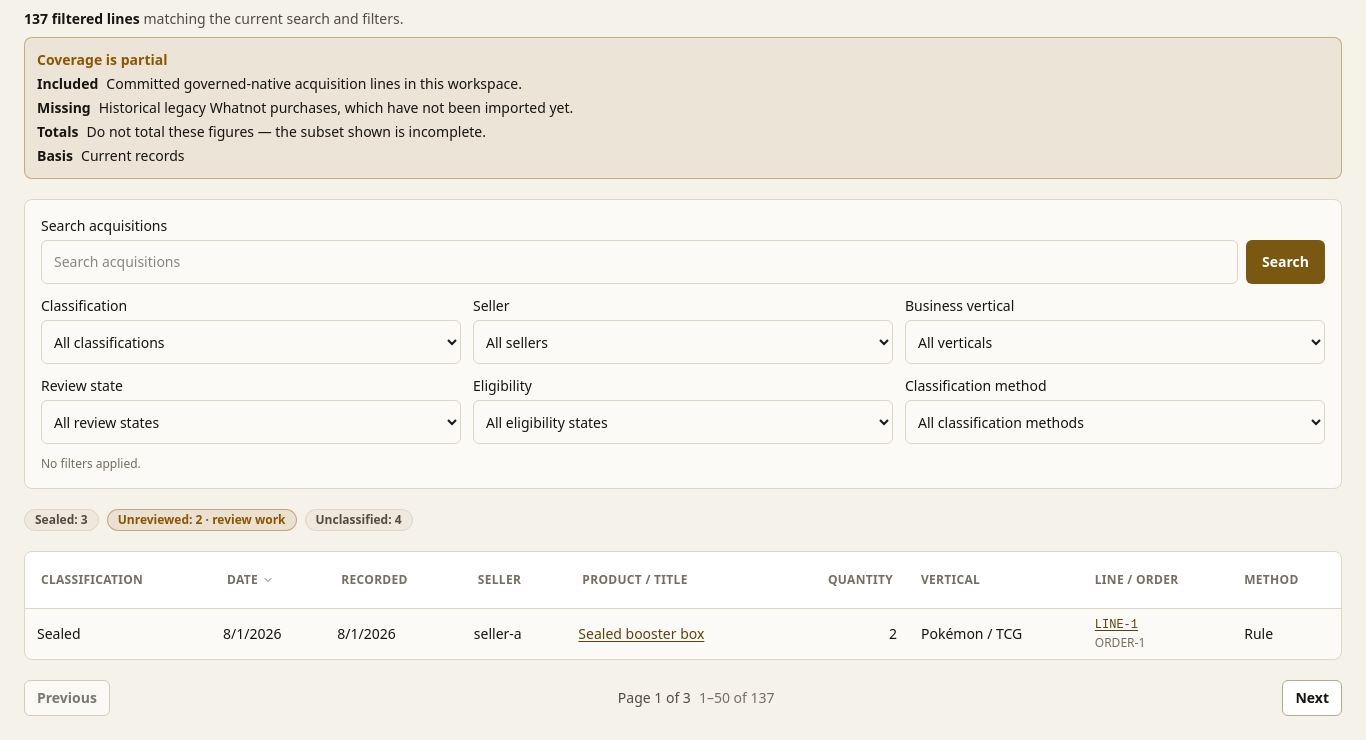
Scenario: pagination against the exact total › reaches page 2 when the total proves one exists
The width and height of the screenshot is (1366, 740).
(page scrolled)
Click the button "Next" at point(1312, 698), box 1282,680 -> 1342,716
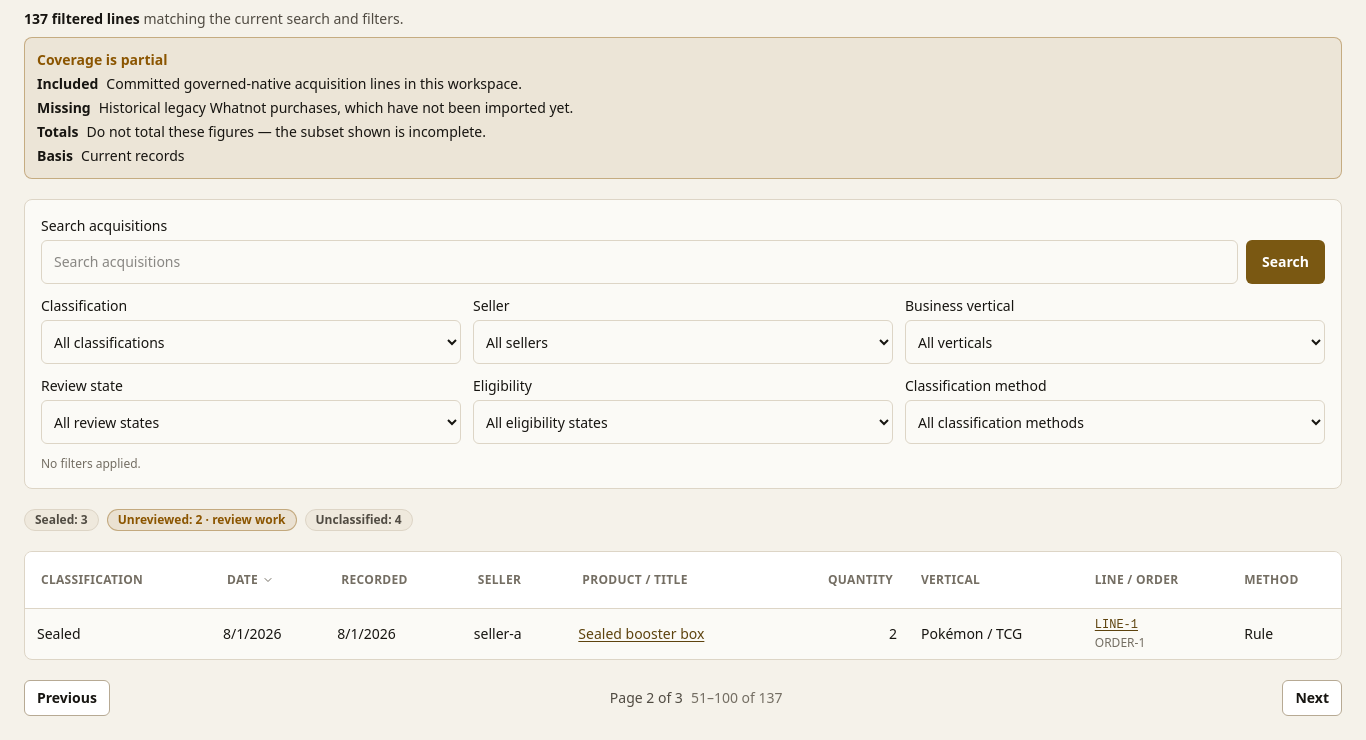
Now the text "Page 2 of 351–100 of 137" is shown, box 610,688 -> 782,708
